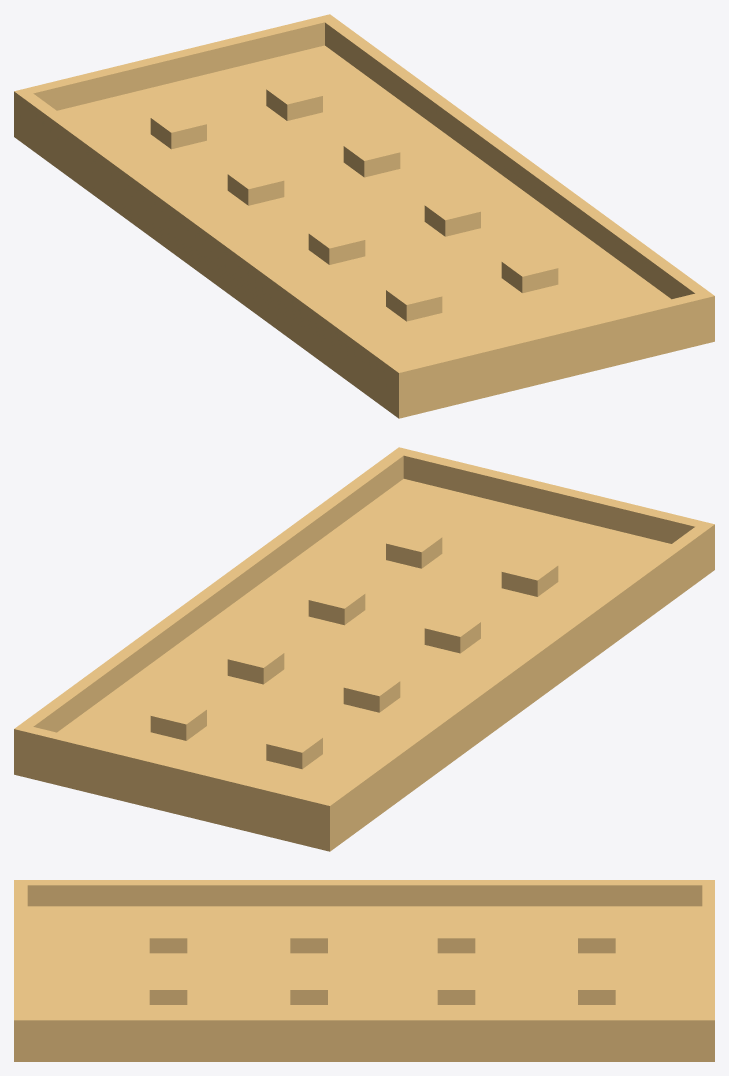
File: Town_Bld-Lrg_Roof-Flat4Balcone.FBX
3 renders of one model, top to bottom at view 1: azimuth 30°, elevation 25°; view 2: azimuth 150°, elevation 25°; view 3: azimuth 270°, elevation 25°, orthographic. The views are drawn at different scales.
Parts seen in each view (by area): view 1: Town_Bld-Lrg_Roof-Flat4Balcone; view 2: Town_Bld-Lrg_Roof-Flat4Balcone; view 3: Town_Bld-Lrg_Roof-Flat4Balcone.
Part boxes in pixels (x1,y1,x2,y2): Town_Bld-Lrg_Roof-Flat4Balcone: [14, 14, 714, 418]; Town_Bld-Lrg_Roof-Flat4Balcone: [14, 447, 714, 851]; Town_Bld-Lrg_Roof-Flat4Balcone: [14, 880, 714, 1061].
Size of the model in its own units: 600 by 82.84 by 1266.
